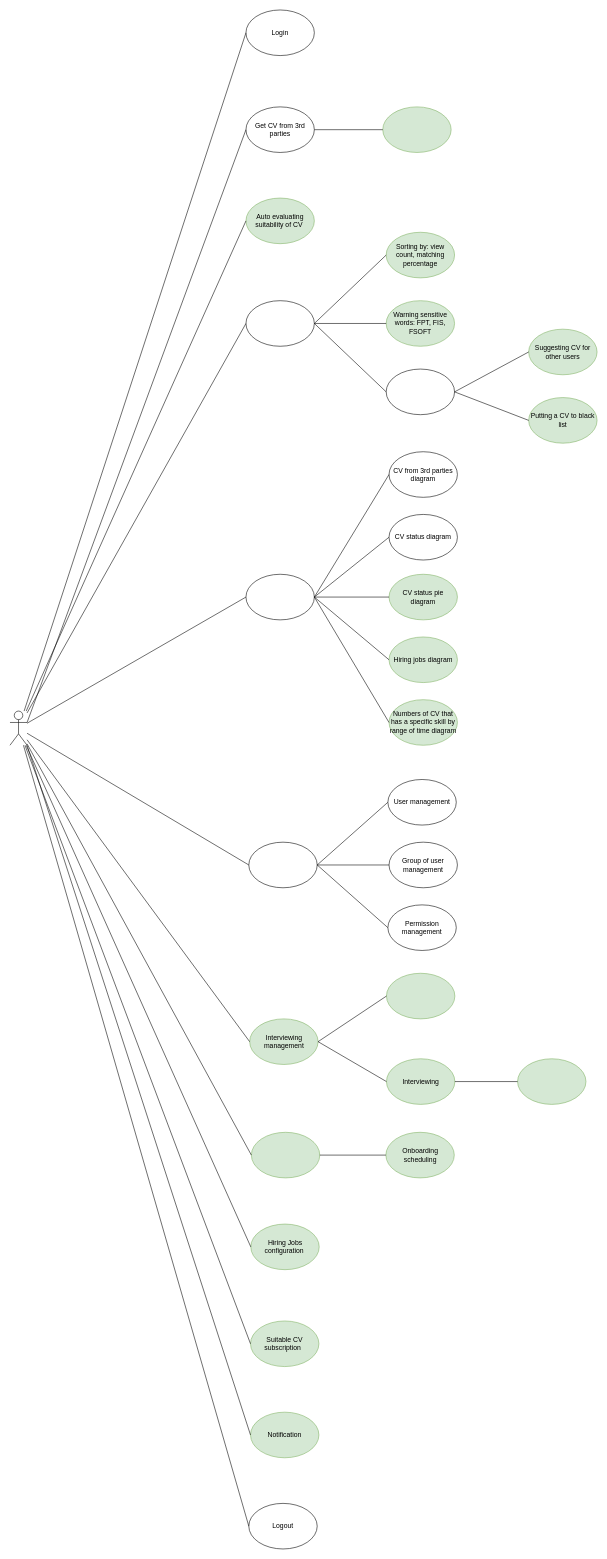
Some shapes in this 607 by 1559 pixel diagram are drawn without their labels. Here are the shapes that lost their labels. From the top down, the centre of each, then its label:
(x=416, y=129): Extracting meaning from CV
(x=279, y=323): CV list management
(x=420, y=392): Viewing CV detail
(x=279, y=597): Dashboard
(x=18, y=728): User
(x=282, y=865): User and permission management
(x=420, y=996): Interview scheduling
(x=551, y=1081): Interviewing result management
(x=285, y=1155): Onboarding management
